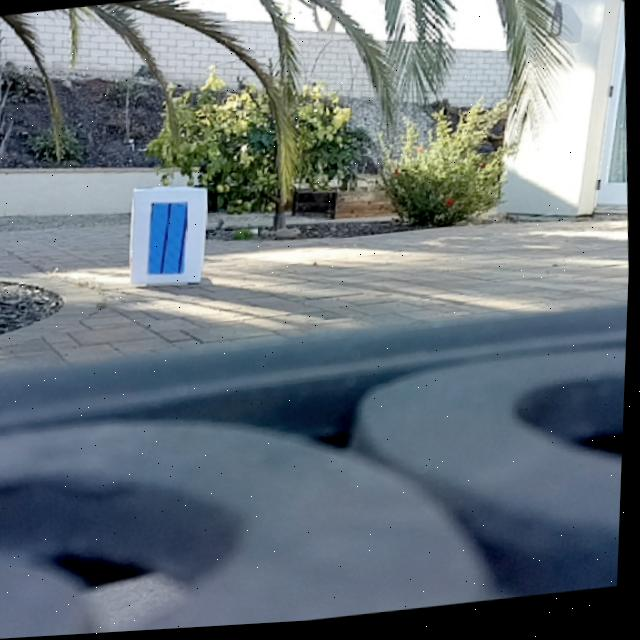led: (145, 199, 194, 282)
